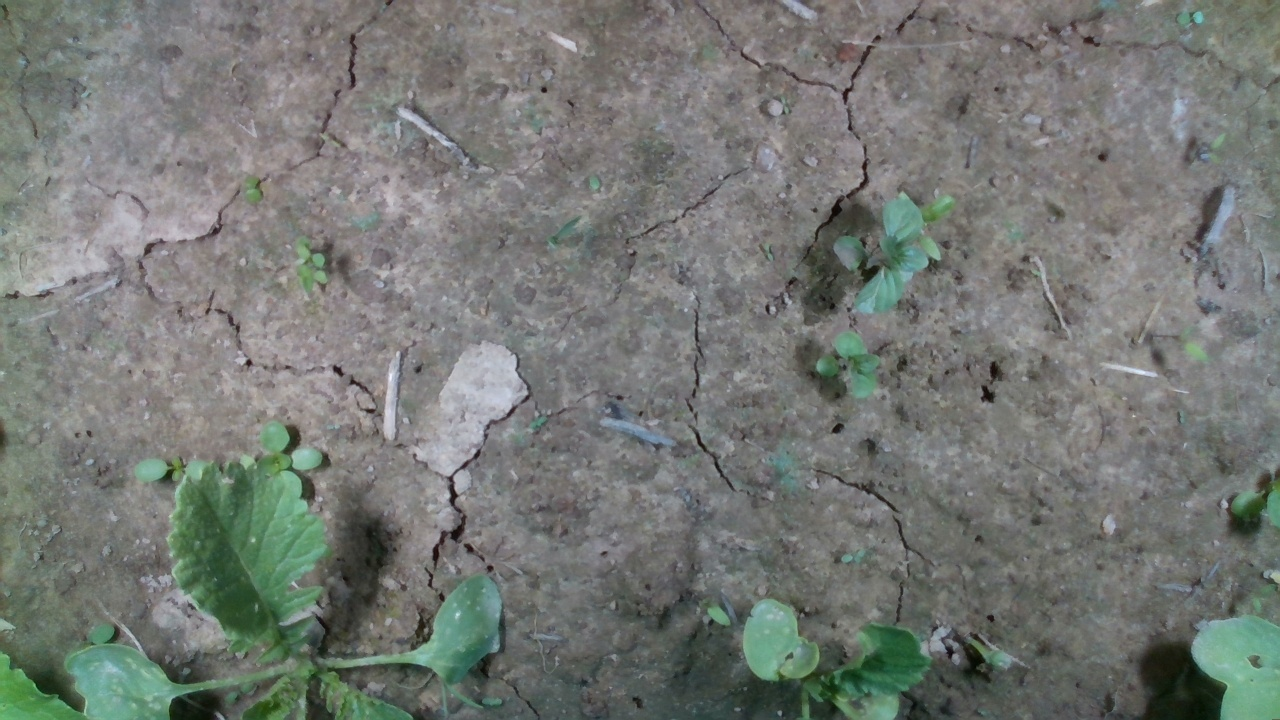weed: (242, 172, 262, 205)
